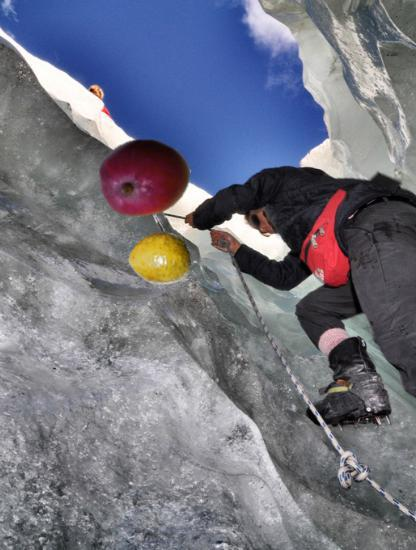Guava: (129, 228, 191, 290)
Mango: (98, 131, 192, 225)
